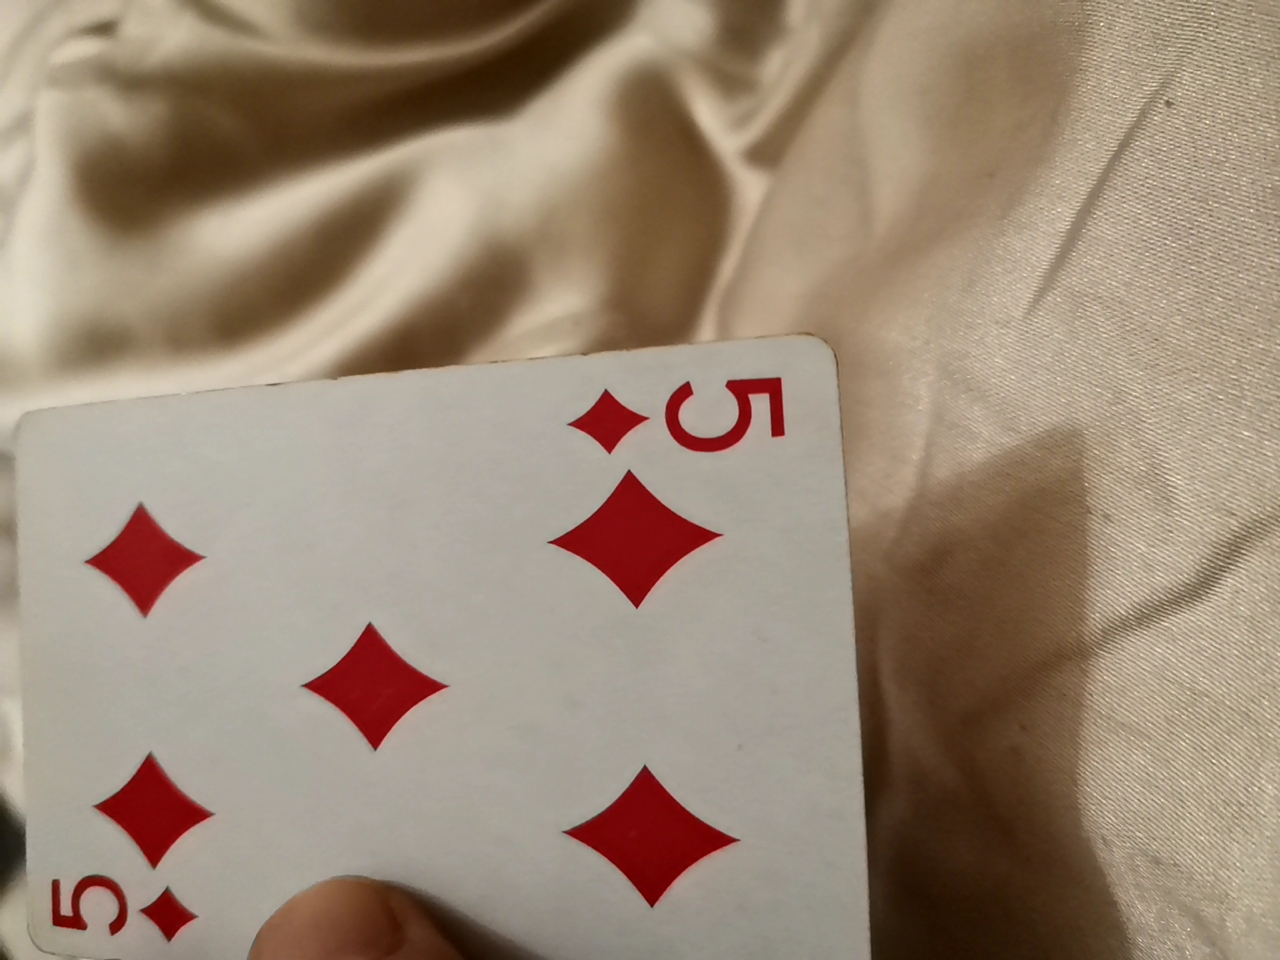fk 5: (9, 329, 856, 958)
